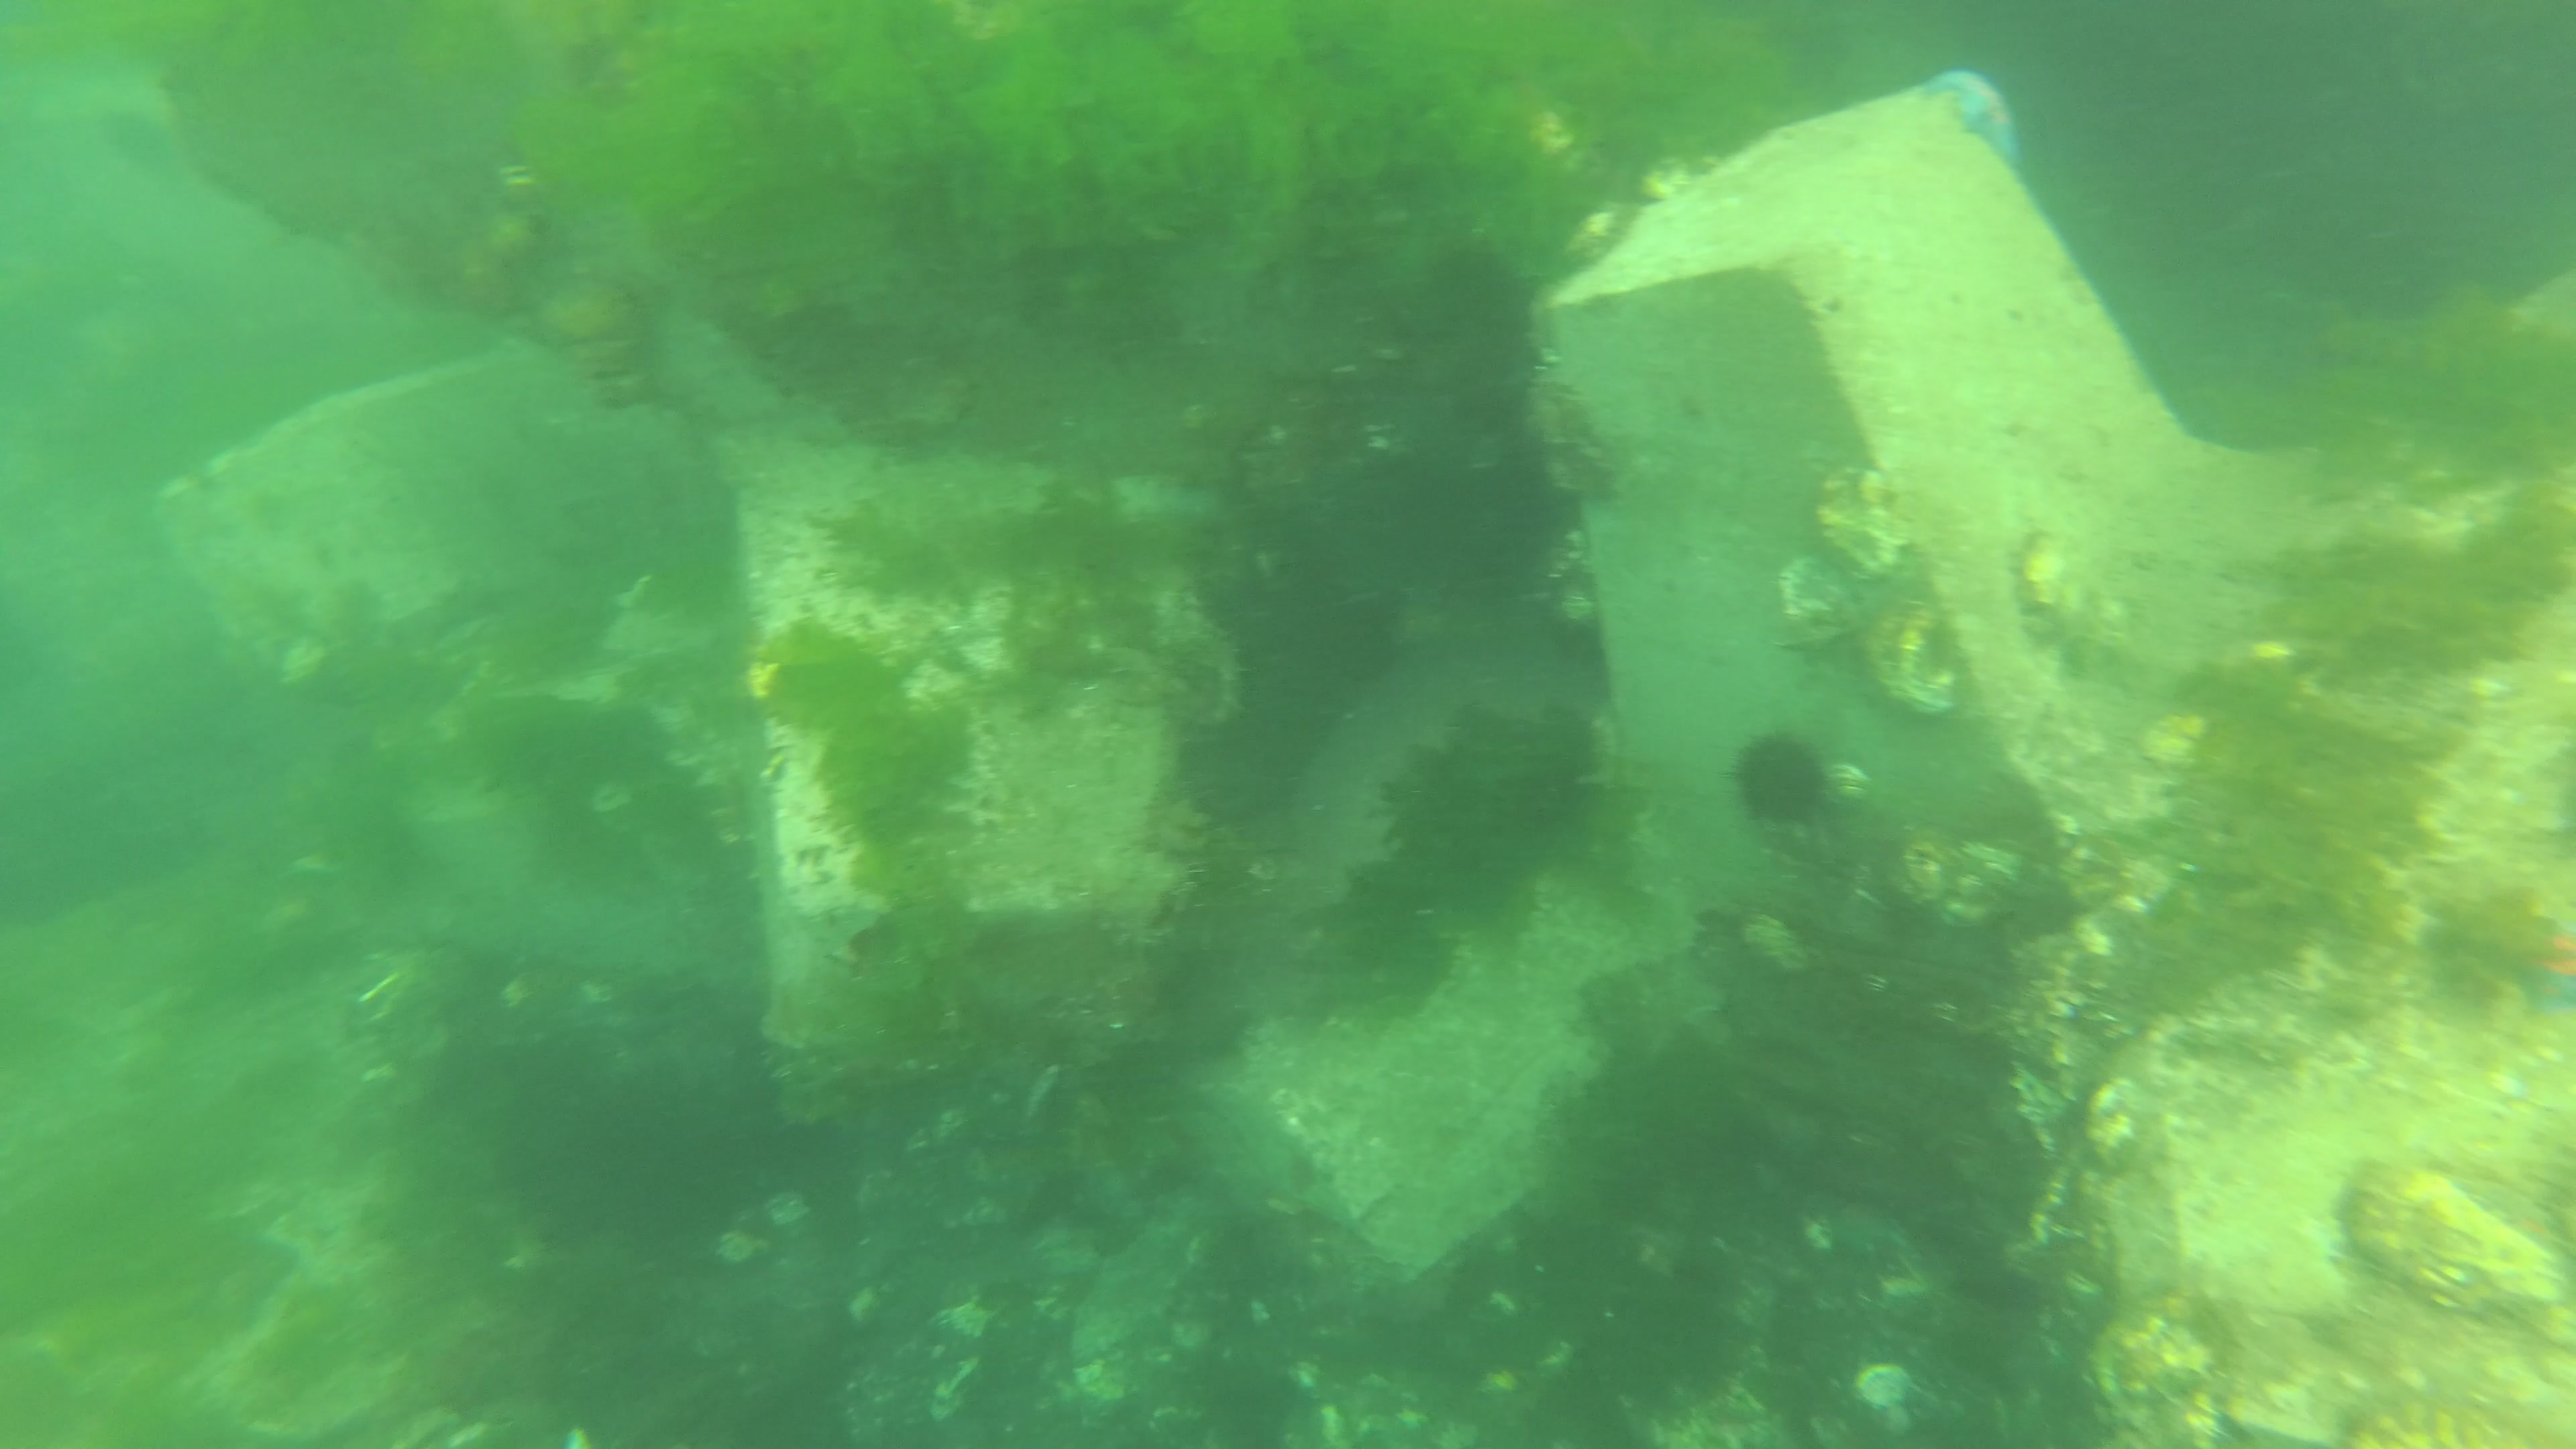echinus: (1720, 729, 1835, 835)
starfish: (1918, 64, 2026, 172), (2500, 913, 2576, 1016)
